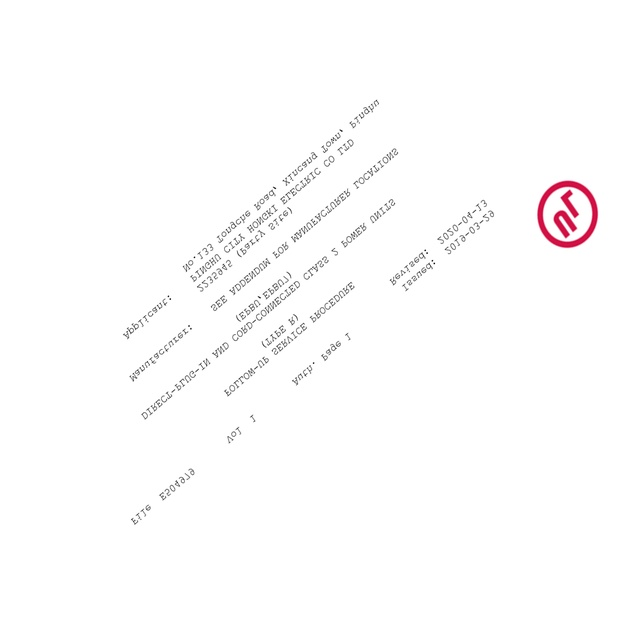ul: (535, 179, 598, 248)
